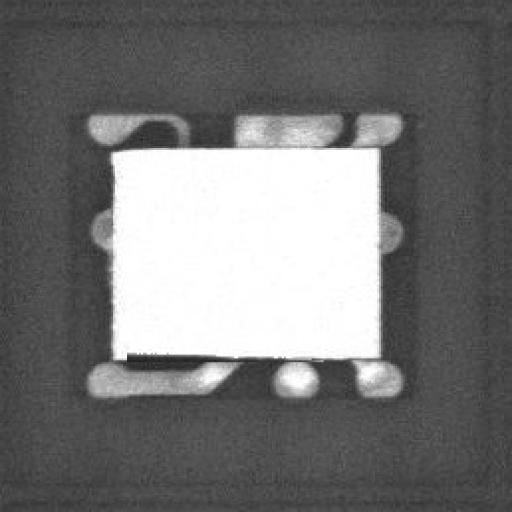DIE_BROKEN: (119, 347, 288, 360)
